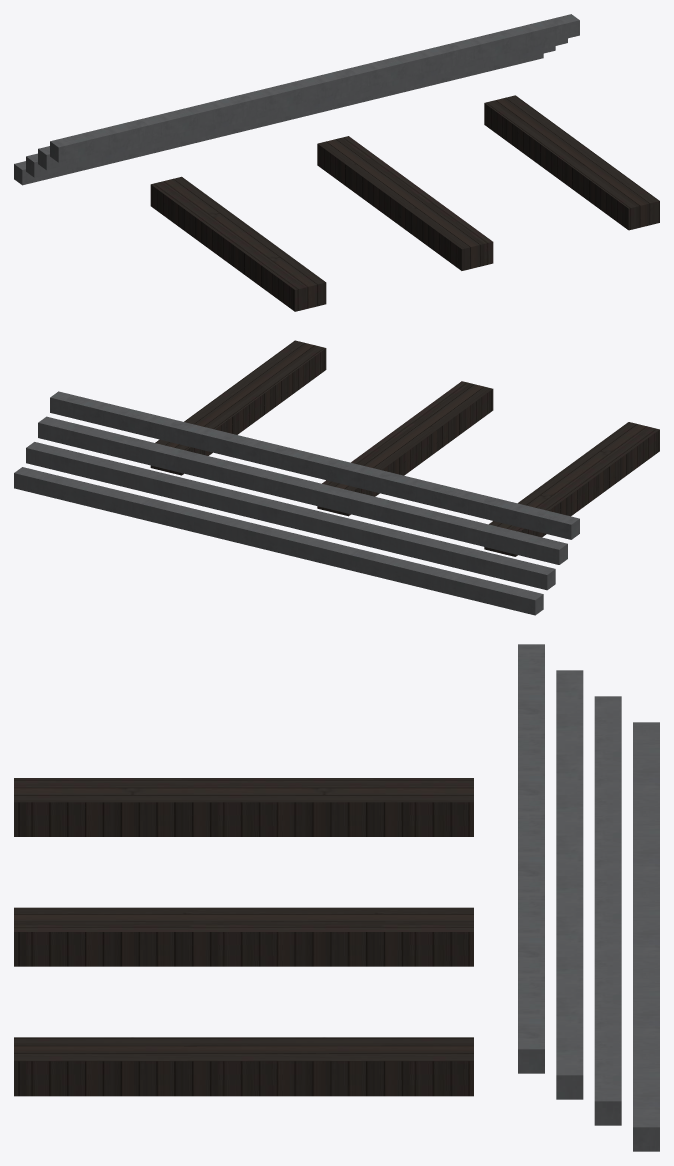
File: rail_pile_01.glb
3 views of the same model, one above another, from view 1: azimuth 30°, elevation 25°; view 2: azimuth 150°, elevation 25°; view 3: azimuth 270°, elevation 25° (orthographic). The views are drawn at different scales.
Visible parts, largest first — view 1: rail_pile_01; view 2: rail_pile_01; view 3: rail_pile_01.
Part boxes in pixels (left/top/right/bottom): rail_pile_01: left=14, top=14, right=659, bottom=311; rail_pile_01: left=14, top=340, right=659, bottom=615; rail_pile_01: left=14, top=644, right=659, bottom=1151.
Bounding box in the file's own units: 5 × 0.62 × 3.37.
2 materials, 2 textured.
